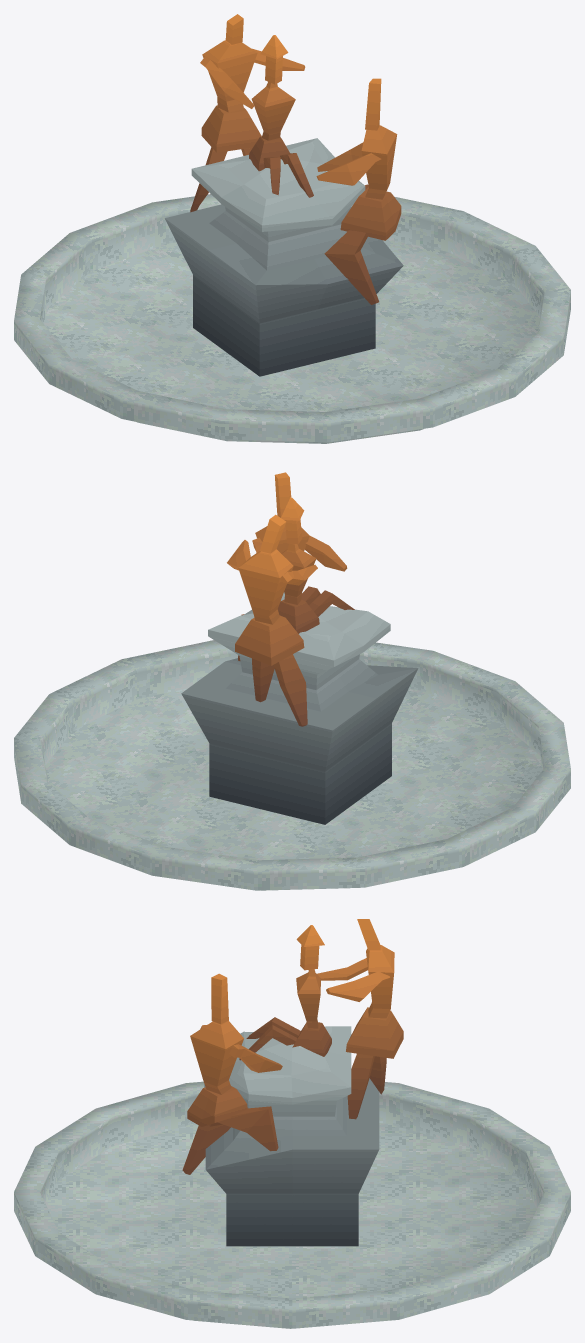
The model's file is fountain.glb.
The picture shows the model from 3 angles, top to bottom: view 1: azimuth 30°, elevation 25°; view 2: azimuth 150°, elevation 25°; view 3: azimuth 270°, elevation 25°; orthographic projection.
Parts seen in each view (by area): view 1: Fountain-col, Platform-col, FigureThree-col, FigureTwo-col, FigureOne-col; view 2: Fountain-col, Platform-col, FigureTwo-col, FigureOne-col, FigureThree-col; view 3: Fountain-col, Platform-col, FigureThree-col, FigureTwo-col, FigureOne-col.
Part boxes in pixels (<box>): Fountain-col: <box>14,194,570,443</box>; Platform-col: <box>165,138,403,376</box>; FigureThree-col: <box>316,78,401,304</box>; FigureTwo-col: <box>190,14,305,212</box>; FigureOne-col: <box>249,35,313,197</box>; Fountain-col: <box>14,640,570,890</box>; Platform-col: <box>181,592,418,824</box>; FigureTwo-col: <box>227,514,317,726</box>; FigureOne-col: <box>277,497,354,633</box>; FigureThree-col: <box>238,472,347,660</box>; Fountain-col: <box>14,1081,570,1328</box>; Platform-col: <box>204,1026,379,1246</box>; FigureThree-col: <box>182,973,282,1174</box>; FigureTwo-col: <box>317,919,403,1119</box>; FigureOne-col: <box>239,925,331,1060</box>.
Size of the model in its own units: 13.11 by 7.66 by 13.11.
3 materials, 3 textured.
